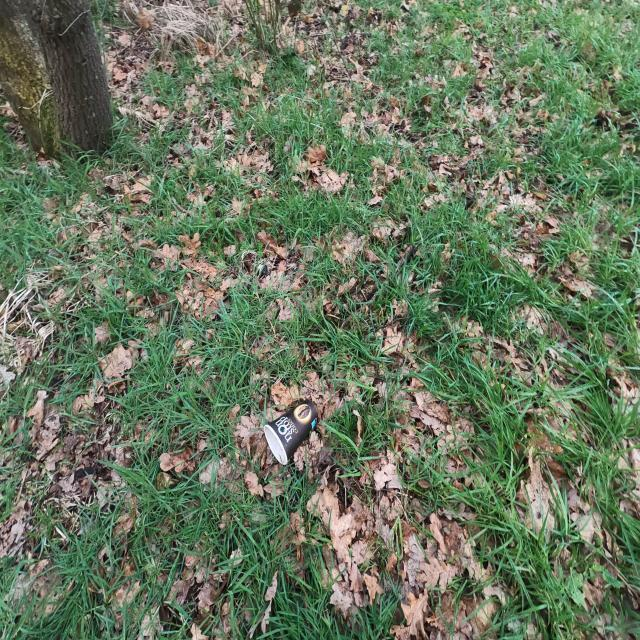Cup: (262, 395, 320, 468)
